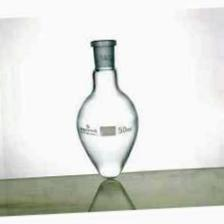Pear shaped flask: (65, 36, 142, 184)
